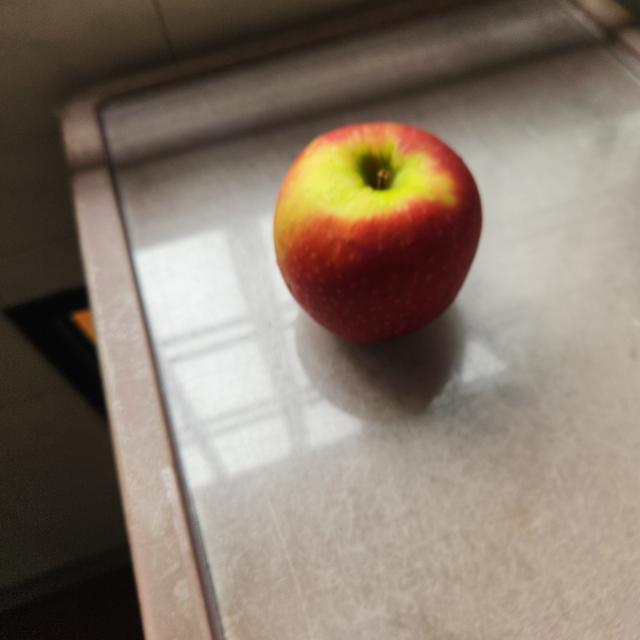apple: (274, 115, 488, 351)
